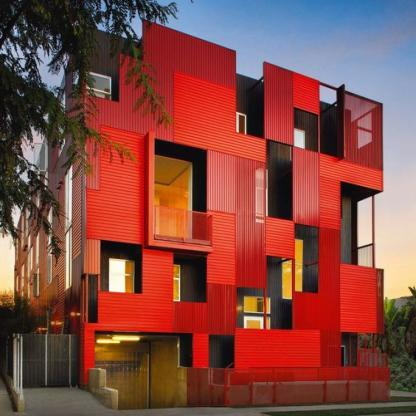Balcony: (154, 205, 212, 247)
Building Outline: (3, 18, 391, 412)
Door: (94, 342, 149, 414), (264, 317, 269, 363)
Facade: (83, 18, 392, 415)
Glass Wall: (153, 155, 192, 240)
Window: (153, 139, 207, 241), (340, 181, 384, 268), (100, 240, 142, 294), (266, 139, 293, 221), (266, 256, 293, 330), (173, 252, 207, 303), (295, 224, 319, 294), (340, 332, 385, 367), (319, 84, 339, 158), (236, 286, 264, 330), (283, 238, 302, 300), (294, 107, 319, 152), (109, 259, 134, 296), (156, 263, 180, 301), (209, 335, 235, 369), (244, 316, 263, 362), (87, 74, 110, 110), (222, 109, 245, 144), (84, 274, 97, 324), (257, 169, 267, 223), (329, 346, 345, 378), (291, 128, 305, 162), (244, 296, 271, 313)
